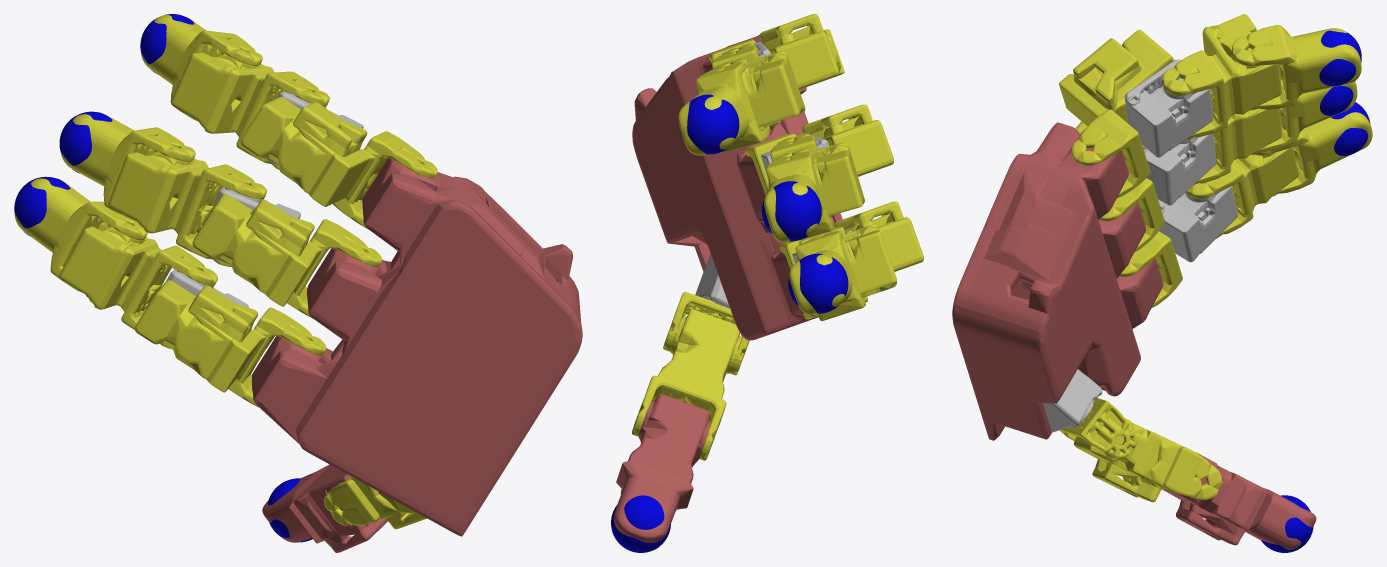
Rendered from hand.glb.
3 renders of one model, left to right at view 1: azimuth 30°, elevation 25°; view 2: azimuth 150°, elevation 25°; view 3: azimuth 270°, elevation 25°, orthographic. The views are drawn at different scales.
Visible parts, largest first — view 1: world; view 2: world; view 3: world.
Part boxes in pixels (bbox=[...]): world: bbox=[14, 14, 582, 552]; world: bbox=[611, 14, 923, 552]; world: bbox=[952, 14, 1372, 552].
Size of the model in its own units: 0.1934 by 0.2469 by 0.1952.
